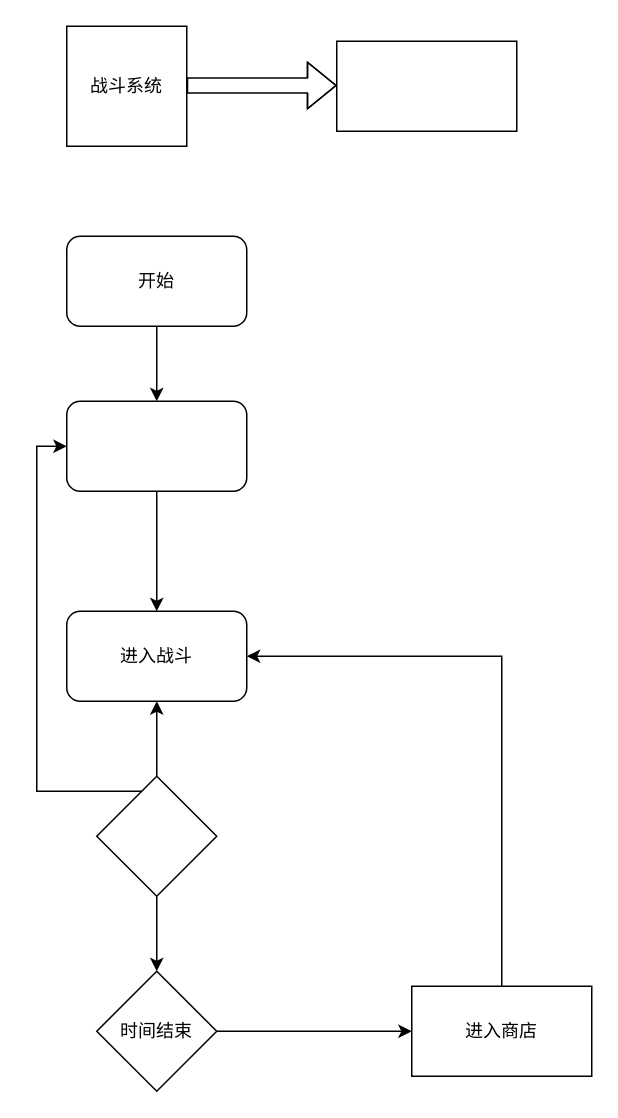
This 618x1118 diagram has some shape labels left out. The centre of each missing label's shape, as x and y in pixels:
"成长系统" goes at (426,85).
"角色存活" goes at (156,835).
"选择角色" goes at (156,445).
